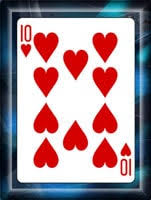ten of hearts: (16, 19, 134, 184)
